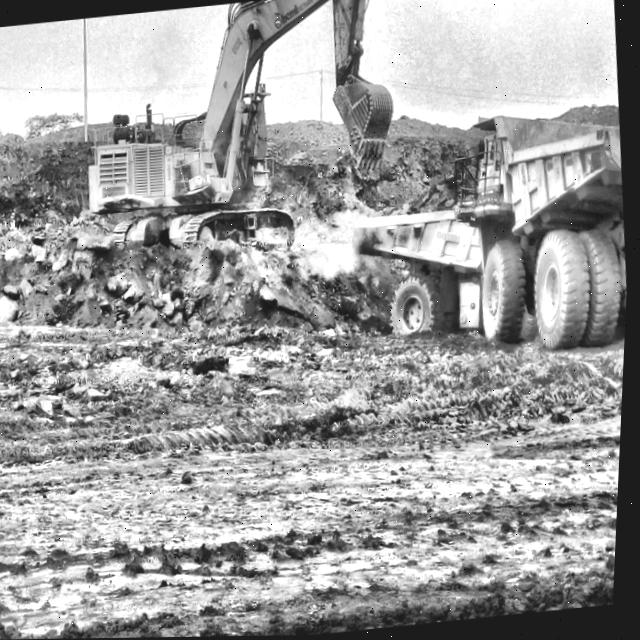dump_truck: (457, 90, 637, 368)
excavator: (65, 0, 424, 299)
